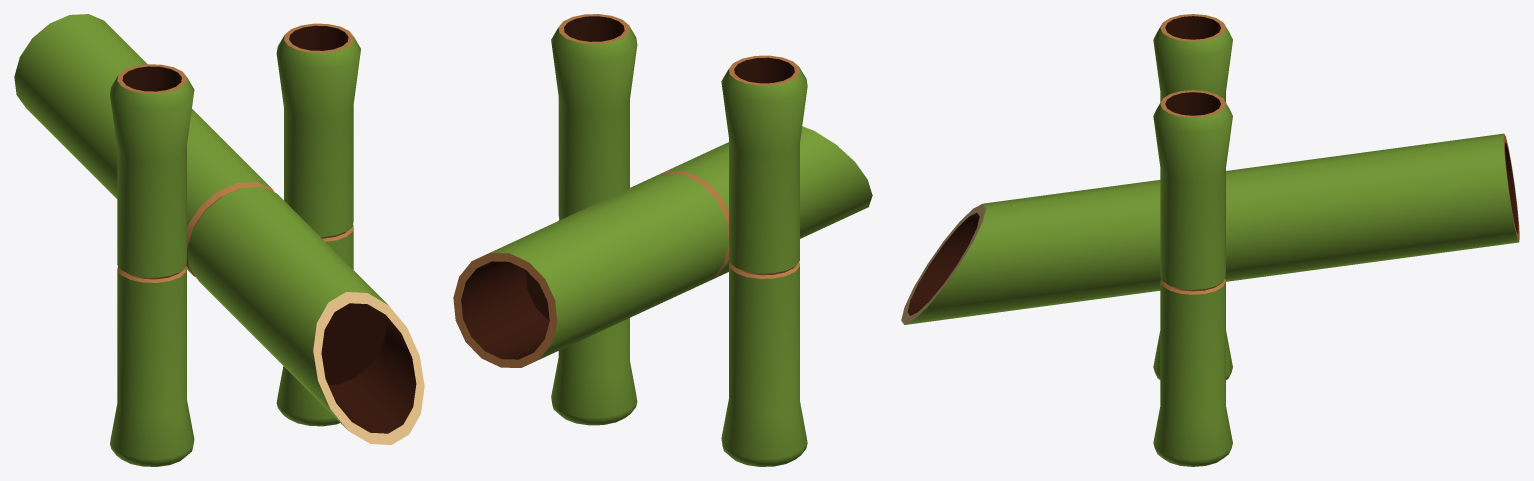
The model's file is 32_voinuoctre.fbx.
The picture shows the model from 3 angles, left to right: view 1: azimuth 30°, elevation 25°; view 2: azimuth 150°, elevation 25°; view 3: azimuth 270°, elevation 25°; orthographic projection. The views are drawn at different scales.
Parts seen in each view (by area): view 1: 32_voinuoctre, 32_voinuoctre_1; view 2: 32_voinuoctre_1, 32_voinuoctre; view 3: 32_voinuoctre, 32_voinuoctre_1.
Part boxes in pixels (box(x1,y1,x2,y2)): 32_voinuoctre: box(14, 14, 424, 444); 32_voinuoctre_1: box(110, 23, 360, 466); 32_voinuoctre_1: box(551, 14, 807, 466); 32_voinuoctre: box(453, 126, 872, 367); 32_voinuoctre: box(901, 133, 1519, 324); 32_voinuoctre_1: box(1153, 14, 1232, 466).
Bounding box in the file's own units: 77.13 × 114 × 184.
